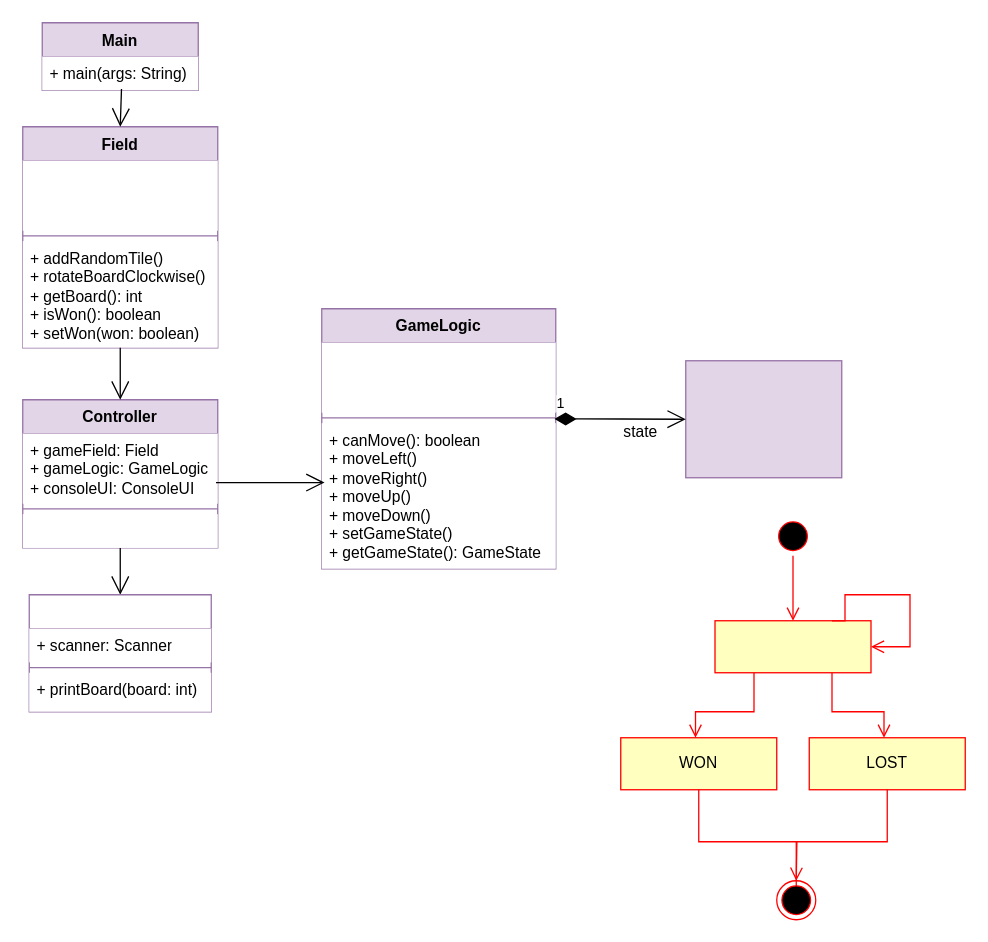
This 988x942 diagram has some shape labels left out. The shapes that lost their labels are listed below. From the top down, each one's box as (x1, y1, x2, y2) in pixels, then its label:
(22, 160, 217, 230): + SIZE: int + board: int + isWon: boolean
(321, 342, 555, 412): + field: Field + WINNING_TILE: int + gameState: GameState
(684, 359, 842, 478): <<Enumeration>> GameState + RUNNING + WON + LOST
(22, 514, 217, 547): + play()
(28, 593, 211, 712): ConsoleUI
(714, 619, 871, 673): RUNNING
